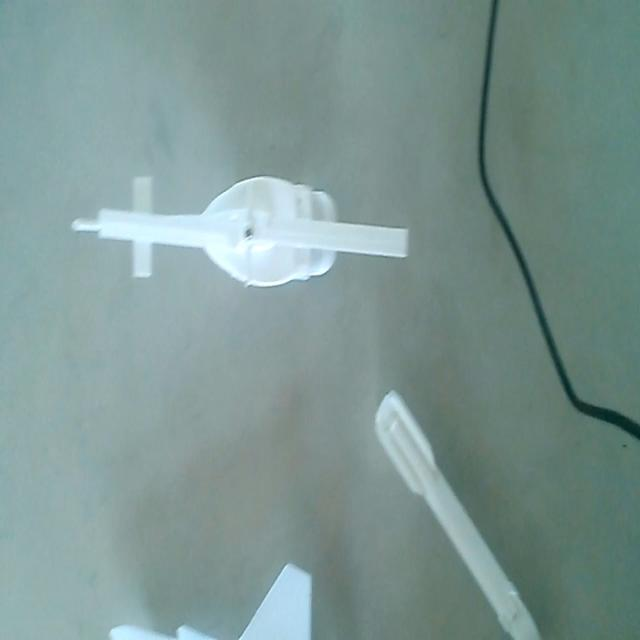Helicopter: (70, 168, 415, 308)
Rocket: (371, 379, 545, 640)
